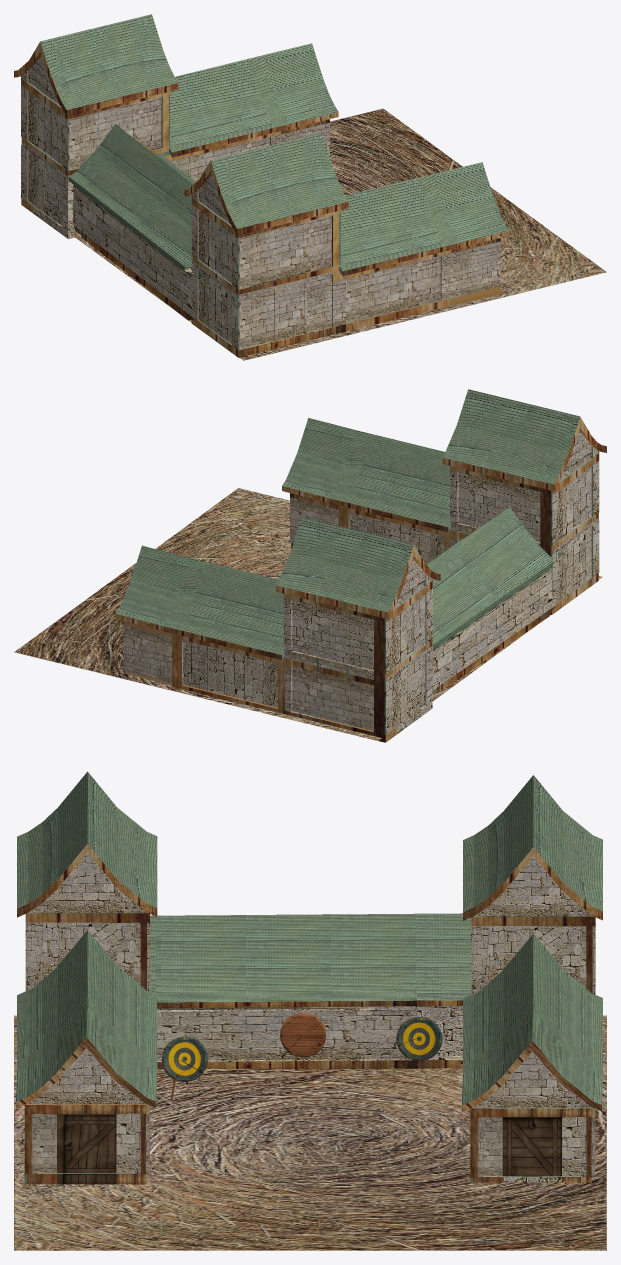
The model's file is archeryblend.fbx.
3 views of the same model, one above another, from view 1: azimuth 30°, elevation 25°; view 2: azimuth 150°, elevation 25°; view 3: azimuth 270°, elevation 25° (orthographic). The views are drawn at different scales.
Visible parts, largest first — view 1: Cube.003, Cube, Cube.004, Plane; view 2: Cube, Cube.003, Plane, Cube.004; view 3: Plane, Cube.003, Cube, Cube.004, straw_target.000, straw_target.002, straw_target.001.
Boxes of the visible parts, x1,y1,x2,y2 form: Cube.003: (184,133,509,357); Cube: (14,14,338,239); Cube.004: (57,124,202,320); Plane: (20,108,606,360); Cube: (115,517,440,742); Cube.003: (282,389,606,614); Plane: (14,488,602,740); Cube.004: (419,507,562,694); Plane: (14,1015,606,1250); Cube.003: (16,771,157,1184); Cube: (461,775,602,1182); Cube.004: (150,913,471,1069); straw_target.000: (162,1036,207,1081); straw_target.002: (396,1017,442,1060); straw_target.001: (280,1013,325,1057).
Bounding box in the file's own units: 1569 × 753 × 1639.
